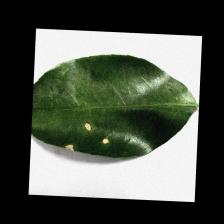canker: (54, 114, 125, 154)
